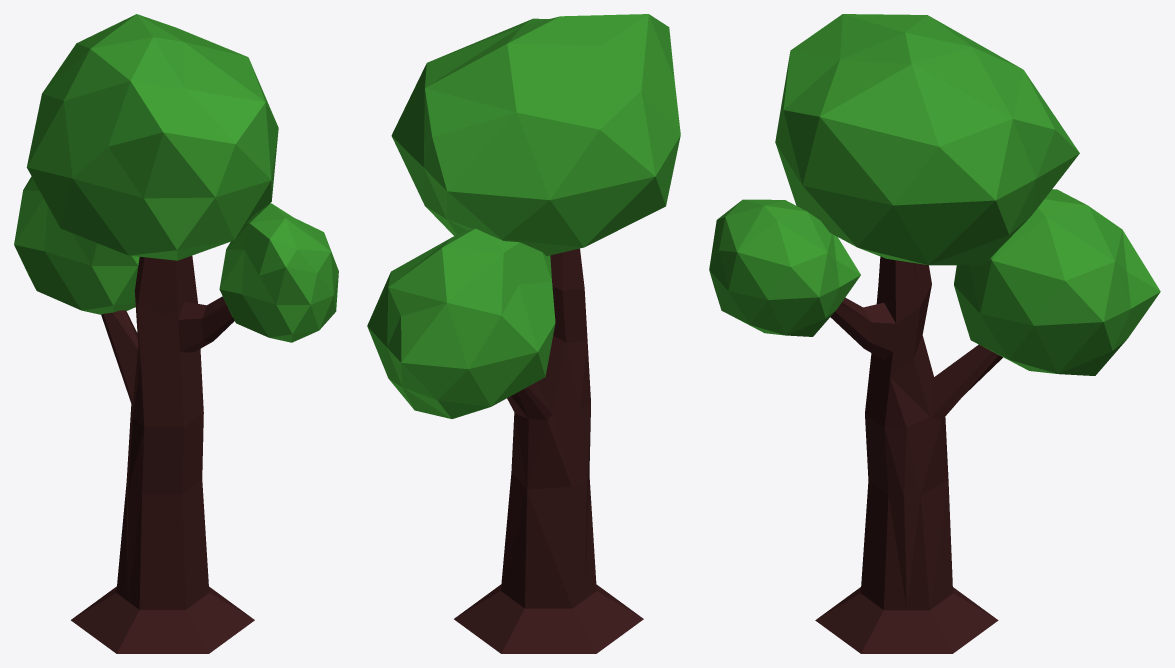
Rendered from tree_3.fbx.
The picture shows the model from 3 angles, left to right: view 1: azimuth 30°, elevation 25°; view 2: azimuth 150°, elevation 25°; view 3: azimuth 270°, elevation 25°; orthographic projection. The views are drawn at different scales.
Visible parts, largest first — view 1: 円柱.002; view 2: 円柱.002; view 3: 円柱.002.
Part boxes in pixels (x1,y1,x2,y2): 円柱.002: [14, 14, 338, 653]; 円柱.002: [367, 14, 680, 653]; 円柱.002: [709, 14, 1160, 653].
Size of the model in its own units: 325 by 796 by 559.
